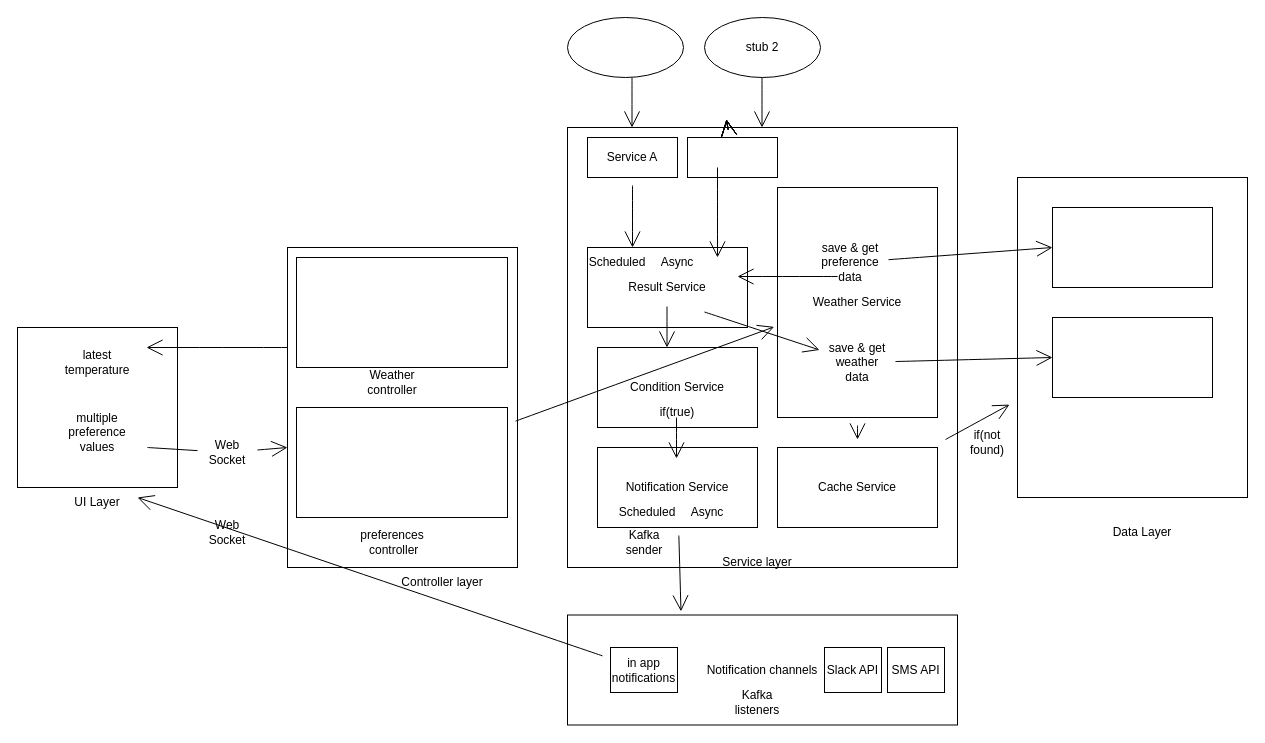
Some shapes in this 1265 by 743 pixel diagram are drawn without their labels. Each missing label, with the centre of its shape:
preferences db: point (1132, 247)
Service B: point (732, 157)
shows main page and returns latest data: point (402, 312)
stub 1: point (625, 47)
user preference values: point (402, 462)
Weather_db: point (1132, 357)
